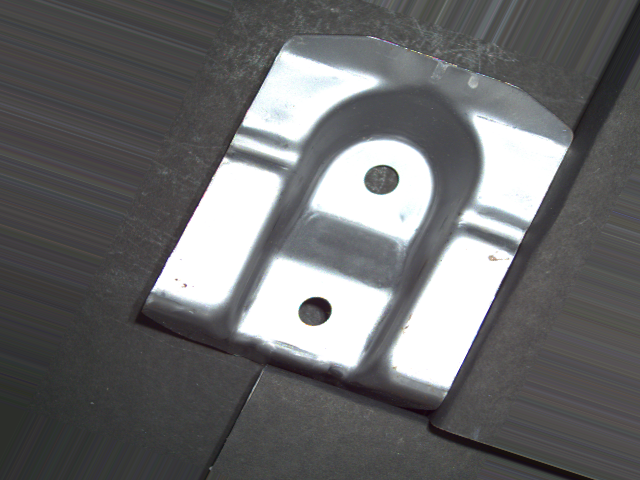defect: (361, 162, 403, 200)
